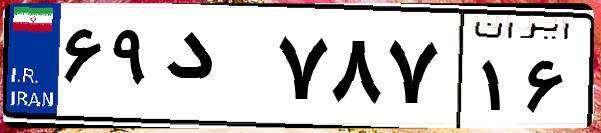1: (475, 38, 525, 113)
6: (57, 26, 110, 100), (525, 38, 570, 115)
7: (270, 28, 330, 110), (385, 28, 445, 110)
8: (330, 28, 385, 110)
9: (110, 28, 158, 98)
د: (158, 20, 270, 120)
